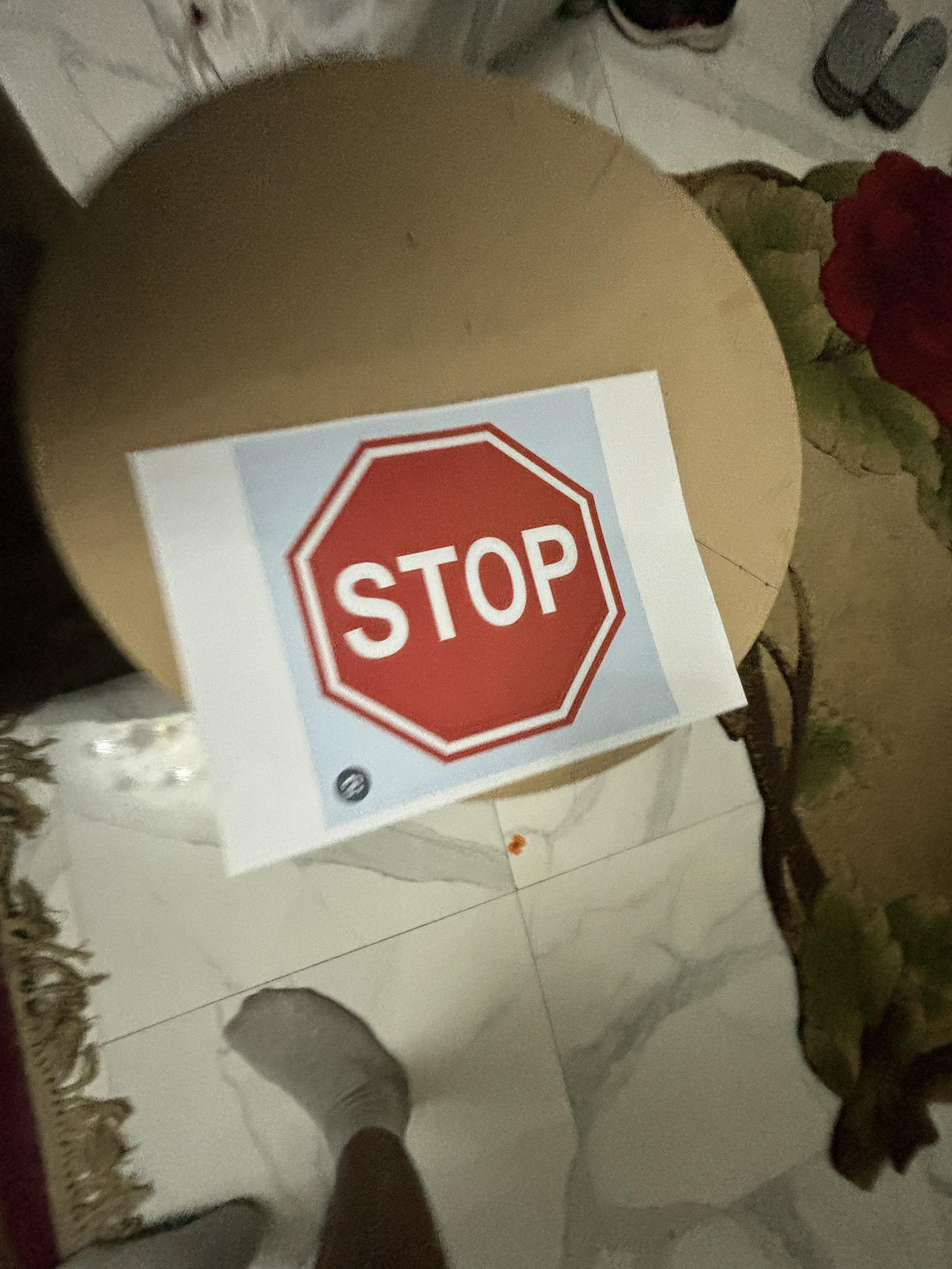Stop: (284, 419, 627, 772)
